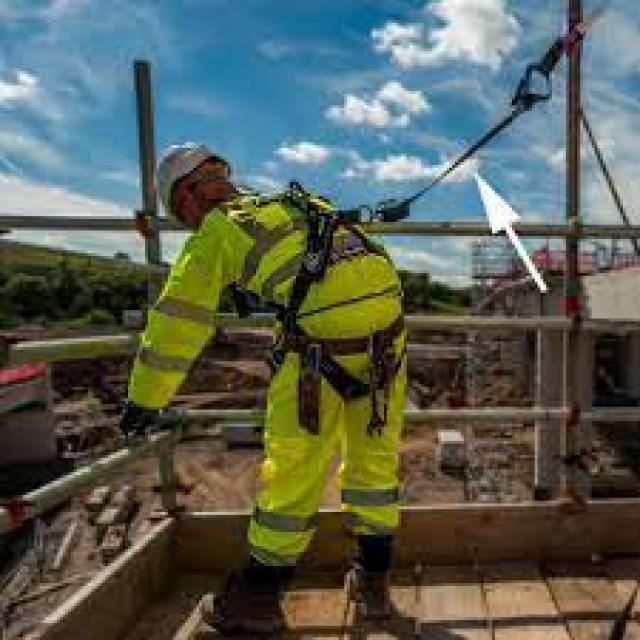harness: (356, 58, 587, 236)
